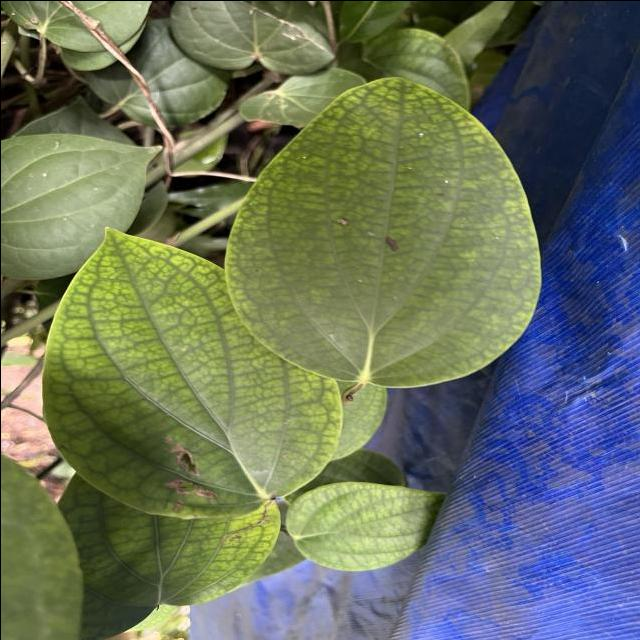Piper nigrum: (222, 76, 544, 390), (34, 223, 345, 523)
